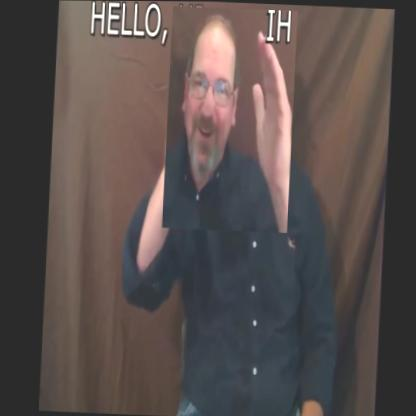Hello: (163, 6, 297, 233)
